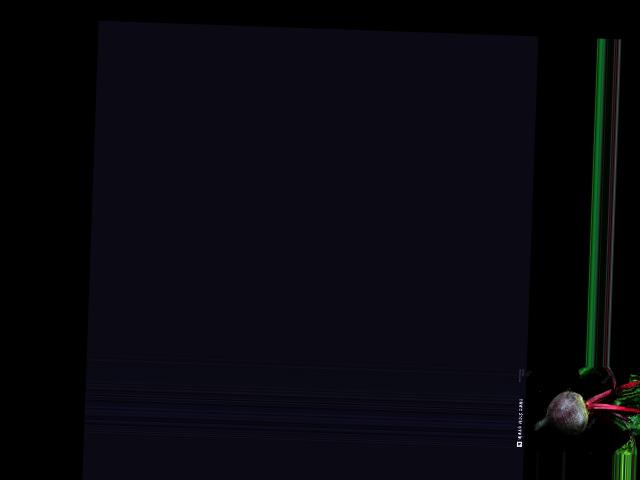beet: (533, 363, 640, 455)
